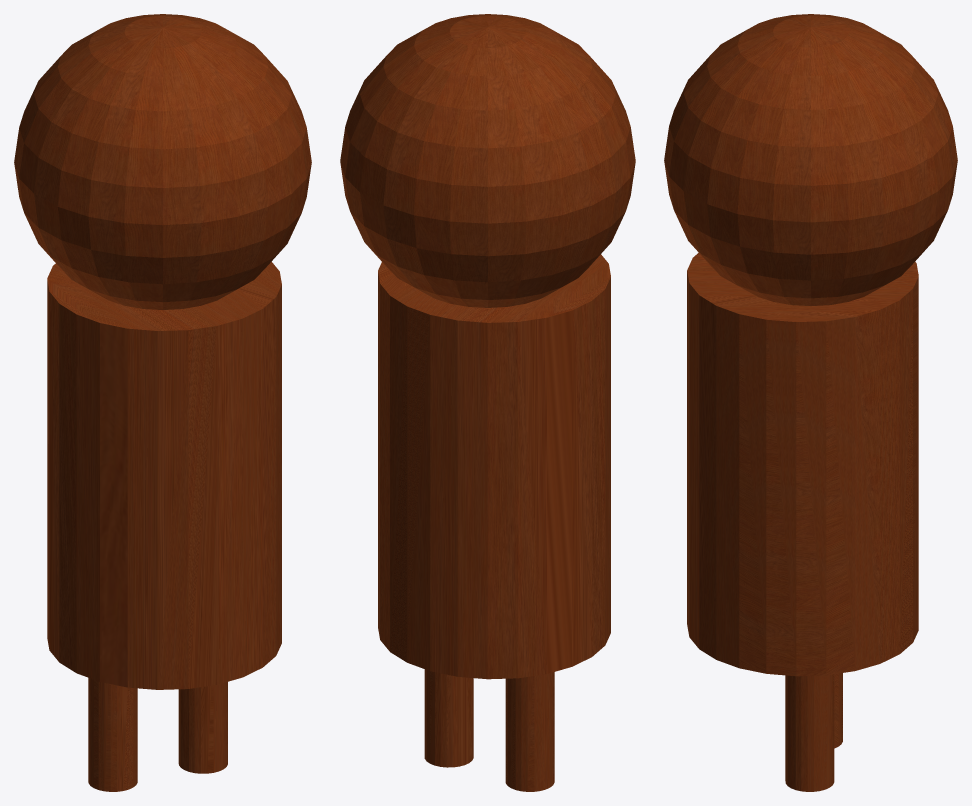
Rendered from person.3ds.glb.
3 renders of one model, left to right at view 1: azimuth 30°, elevation 25°; view 2: azimuth 150°, elevation 25°; view 3: azimuth 270°, elevation 25°, orthographic.
Parts seen in each view (by area): view 1: Model, Sphere1; view 2: Model, Sphere1; view 3: Model, Sphere1.
Boxes of the visible parts, x1=… form: Model: x1=47, y1=261, x2=281, y2=791; Sphere1: x1=14, y1=14, x2=311, y2=309; Model: x1=378, y1=254, x2=610, y2=791; Sphere1: x1=340, y1=14, x2=635, y2=307; Model: x1=687, y1=252, x2=918, y2=791; Sphere1: x1=664, y1=14, x2=957, y2=305.
Bounding box in the file's own units: 0.1524 × 0.4211 × 0.1524.
3 materials, 2 textured.
